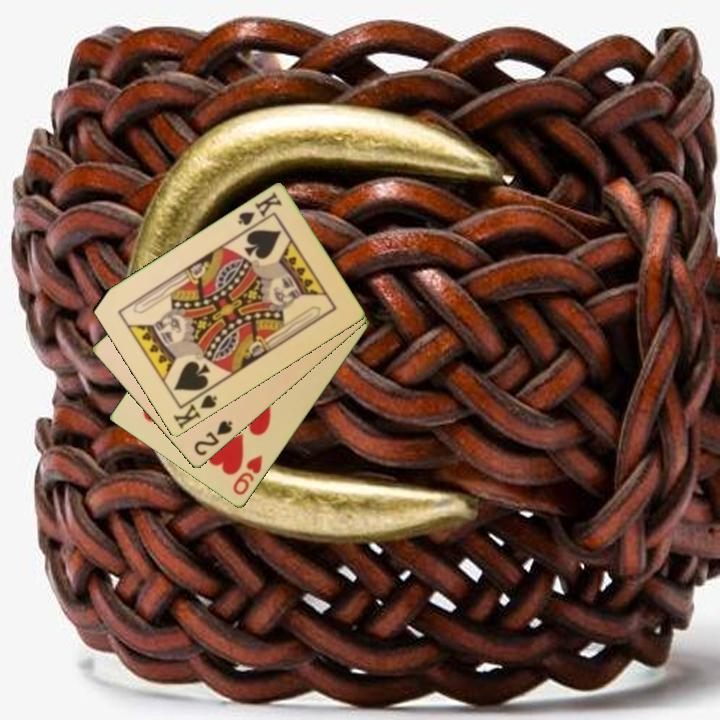2s: (191, 417, 236, 459)
9h: (229, 452, 266, 499)
Ks: (169, 384, 220, 432), (234, 189, 285, 229)
